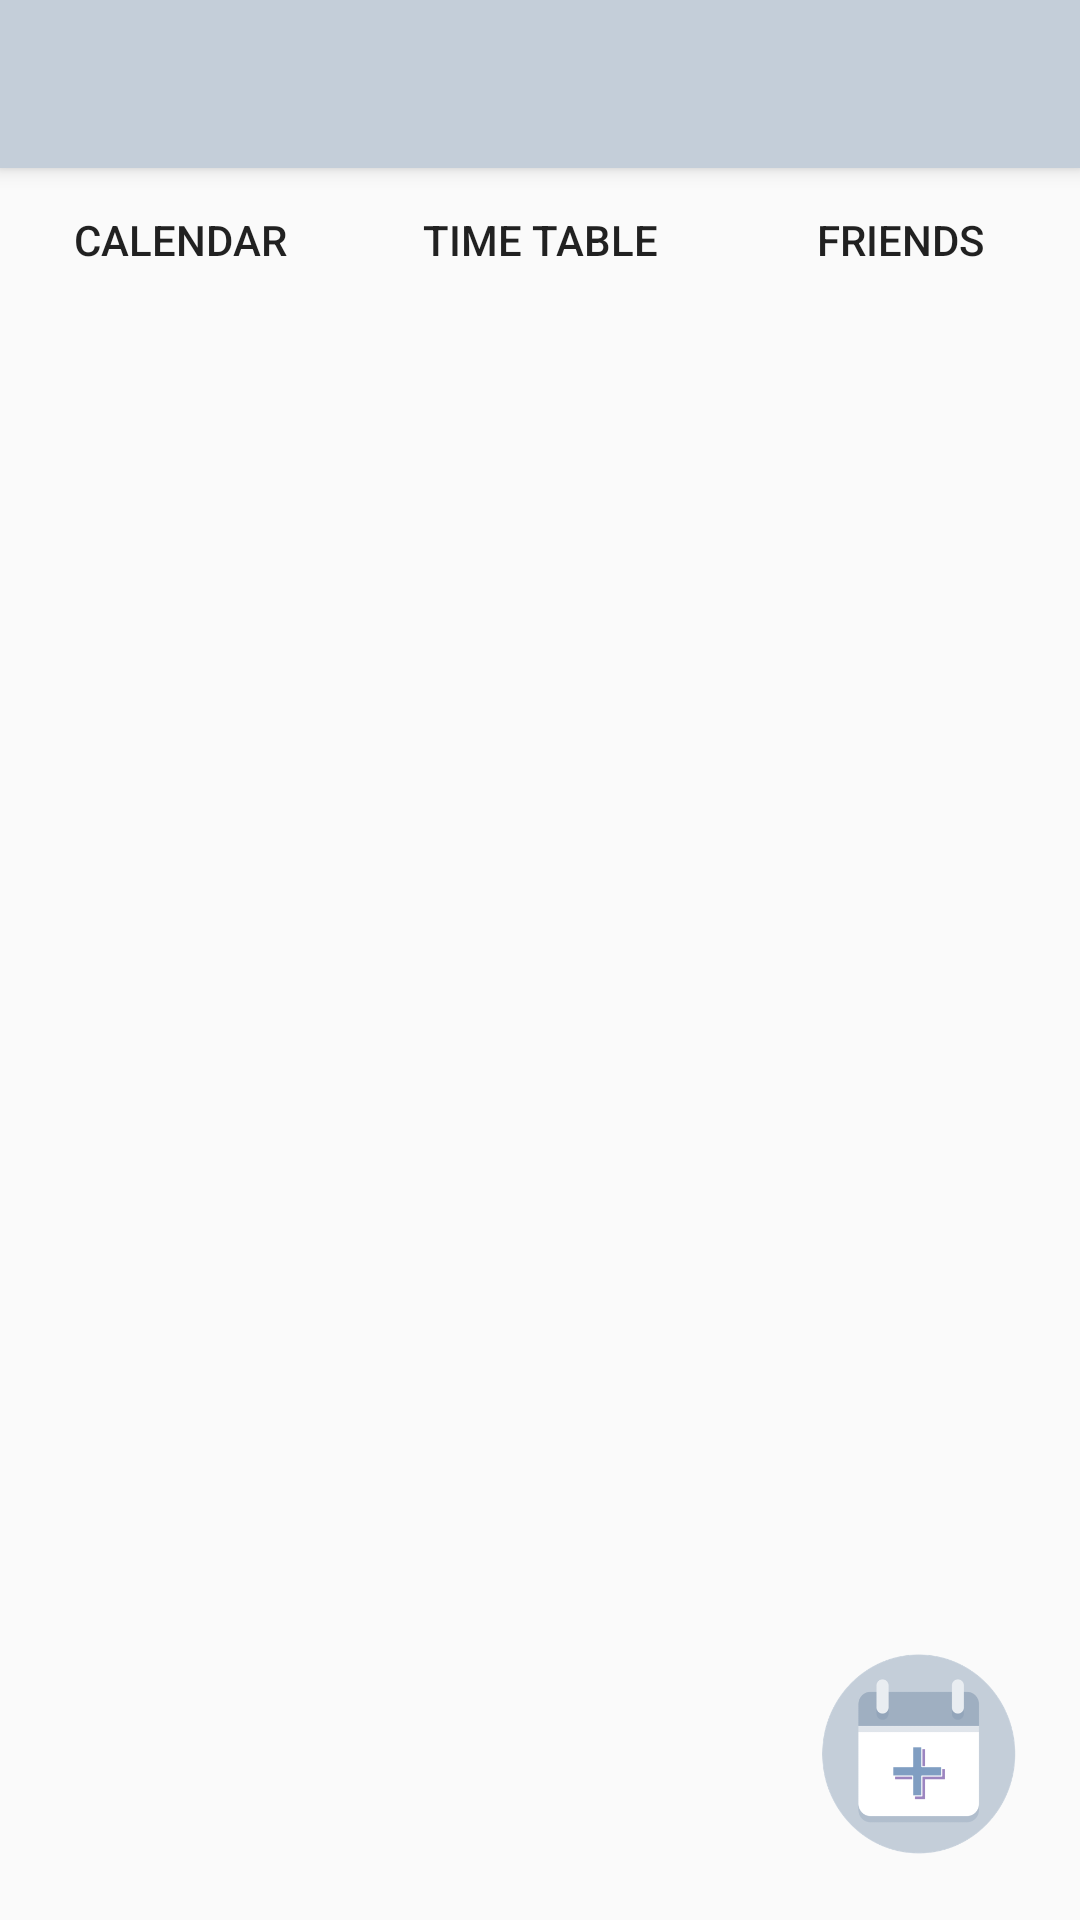

Screen size 1080w x 1920h. Icon name, then its center in pixels as (x=x, y=y):
add plus: (x=918, y=1754)
